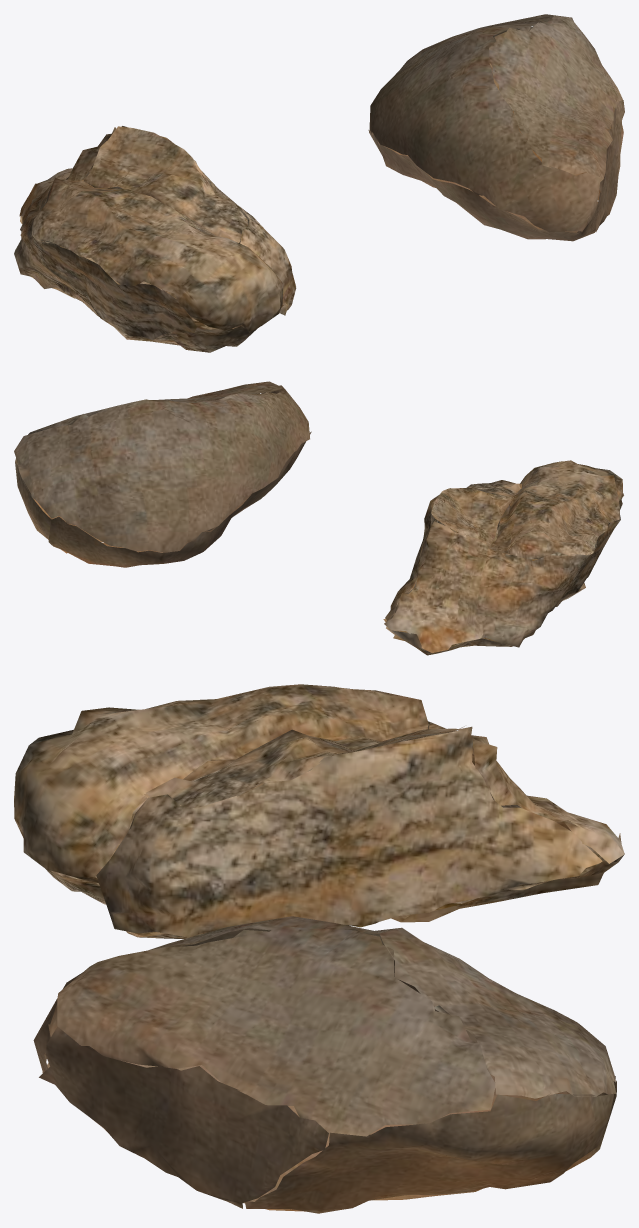
The model's file is Rock2.glb.
3 views of the same model, one above another, from view 1: azimuth 30°, elevation 25°; view 2: azimuth 150°, elevation 25°; view 3: azimuth 270°, elevation 25° (orthographic). The views are drawn at different scales.
Parts seen in each view (by area): view 1: namaqualand_rocks_01_a, namaqualand_rocks_01_b; view 2: namaqualand_rocks_01_a, namaqualand_rocks_01_b; view 3: namaqualand_rocks_01_a, namaqualand_rocks_01_b.
Boxes of the visible parts, box(x1,y1,x2,y2) form: namaqualand_rocks_01_a: box(368, 14, 624, 241); namaqualand_rocks_01_b: box(14, 126, 296, 352); namaqualand_rocks_01_a: box(14, 381, 311, 567); namaqualand_rocks_01_b: box(383, 460, 623, 655); namaqualand_rocks_01_a: box(33, 916, 616, 1213); namaqualand_rocks_01_b: box(14, 684, 624, 938).
Size of the model in its own units: 1.11 by 0.2842 by 0.6585.
1 material, 1 textured.
